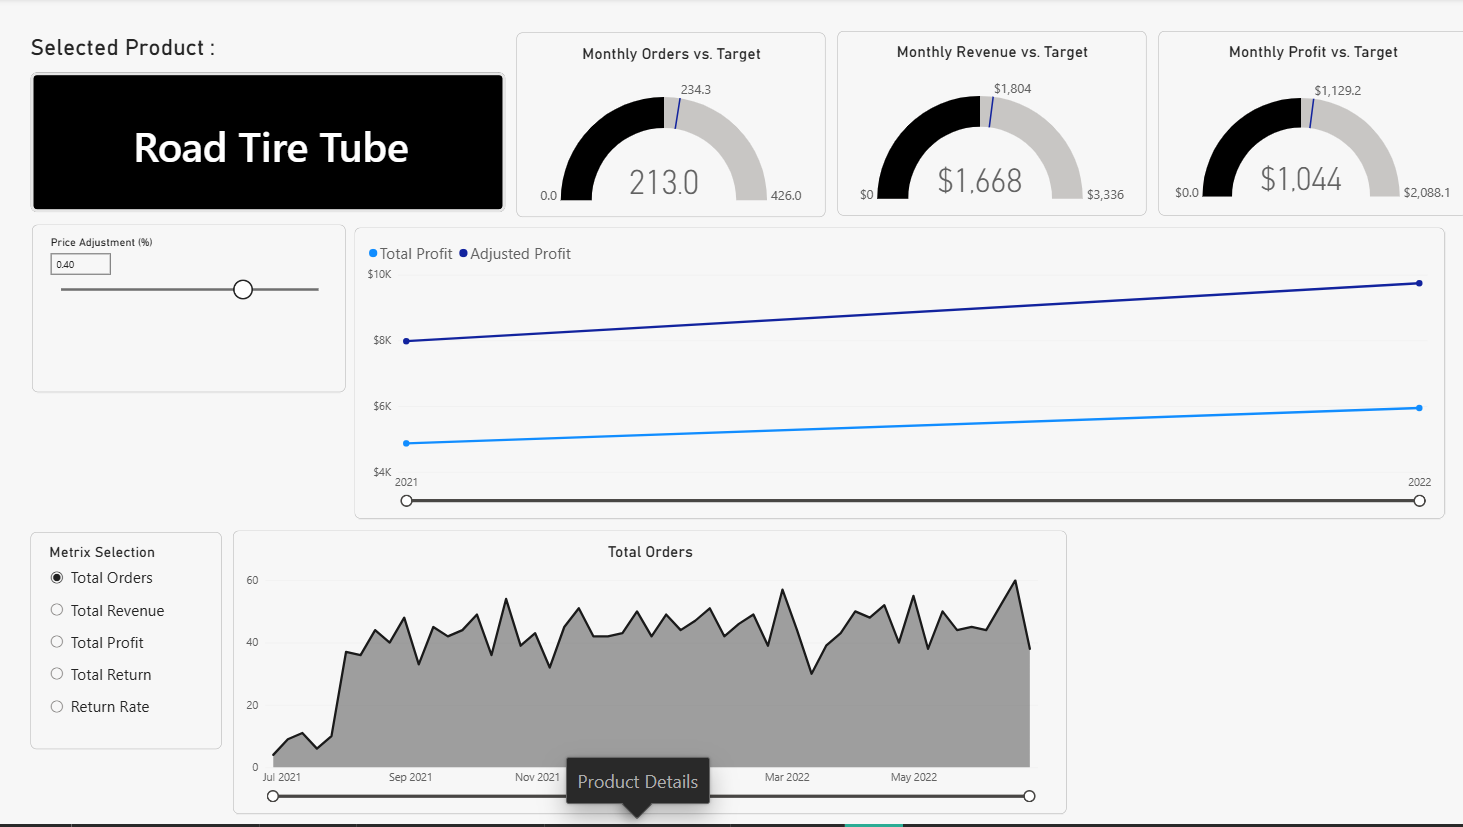

The page's visual inventory and layout, read from the dashboard file:
{"tool":"powerbi","page":{"name":"Product Details","canvas":[1920,1080],"ordinal":3},"visuals":[{"type":"areaChart","fields":{"Category":["AdventureWorks Calendar Lookup1.Start of Week"],"Y":["Measure Table.Total Orders"]},"box":[306.6,696.5,1090.2,371],"z":0},{"type":"slicer","fields":{"Values":["Metrix Selection.Metrix Selection"]},"box":[40.9,698,249.8,283.9],"z":1000},{"type":"gauge","title":"Monthly Orders vs. Target","fields":{"TargetValue":["Measure Table.Order Target"],"Y":["Measure Table.Total Orders"]},"box":[676.1,44.7,404.3,241.5],"z":1001},{"type":"gauge","title":"Monthly Revenue vs. Target","fields":{"TargetValue":["Measure Table.Revenue Target"],"Y":["Measure Table.Total Revenue"]},"box":[1095.5,43.2,404.3,241.5],"z":1002},{"type":"gauge","title":"Monthly Profit vs. Target","fields":{"TargetValue":["Measure Table.Profit Target"],"Y":["Measure Table.Total Profit"]},"box":[1515.7,42.4,404.3,241.5],"z":1003},{"type":"cardVisual","title":"Selected Product :","fields":{"Data":["Min(AdventureWorks Product Lookup.ProductName)"]},"box":[40.9,47.7,621.6,233.9],"z":1005},{"type":"lineChart","fields":{"Category":["AdventureWorks Calendar Lookup1.Year Hierarchy.Year","AdventureWorks Calendar Lookup1.Year Hierarchy.Start of Month","AdventureWorks Calendar Lookup1.Year Hierarchy.Start of Week","AdventureWorks Calendar Lookup1.Year Hierarchy.Date"],"Y":["Measure Table.Total Profit","Measure Table.Adjusted Profit"]},"box":[465.2,299.4,1425.6,380.8],"z":1006},{"type":"slicer","fields":{"Values":["Price Adjustment (%).Price Adjustment (%)"]},"box":[42.6,296.1,409.7,219.5],"z":1007}]}

Visuals, with their boxes in screenshot pixels (x1, y1, x2, y2), scaled from the page's 1920x1080 canvas onto the 1463x827 screenshot:
areaChart - AdventureWorks Calendar Lookup1.Start of Week x Measure Table.Total Orders: (left=234, top=533, right=1064, bottom=817)
slicer - Metrix Selection.Metrix Selection: (left=31, top=534, right=222, bottom=752)
"Monthly Orders vs. Target" gauge: (left=515, top=34, right=823, bottom=219)
"Monthly Revenue vs. Target" gauge: (left=835, top=33, right=1143, bottom=218)
"Monthly Profit vs. Target" gauge: (left=1155, top=32, right=1462, bottom=217)
"Selected Product :" cardVisual: (left=31, top=37, right=505, bottom=216)
lineChart - AdventureWorks Calendar Lookup1.Year Hierarchy.Year x AdventureWorks Calendar Lookup1.Year Hierarchy.Start of Month: (left=354, top=229, right=1441, bottom=521)
slicer - Price Adjustment (%).Price Adjustment (%): (left=32, top=227, right=345, bottom=395)
